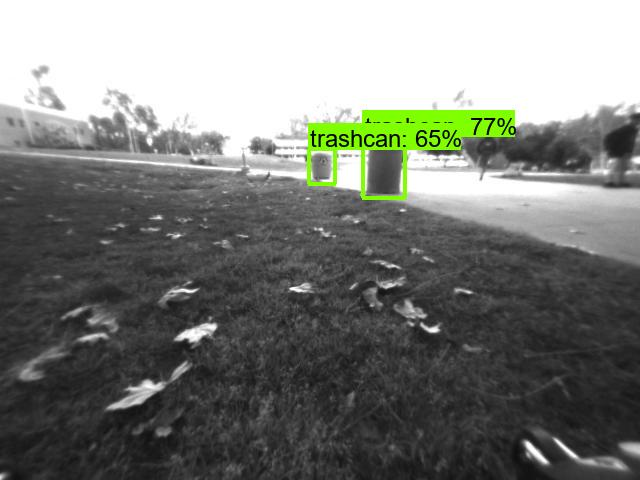trashcan: (360, 140, 408, 195), (311, 151, 338, 180)
